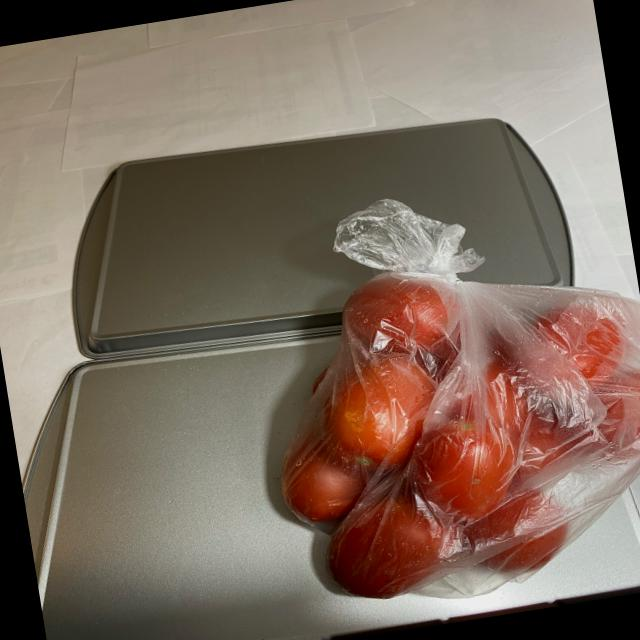tomato: (250, 235, 640, 627)
